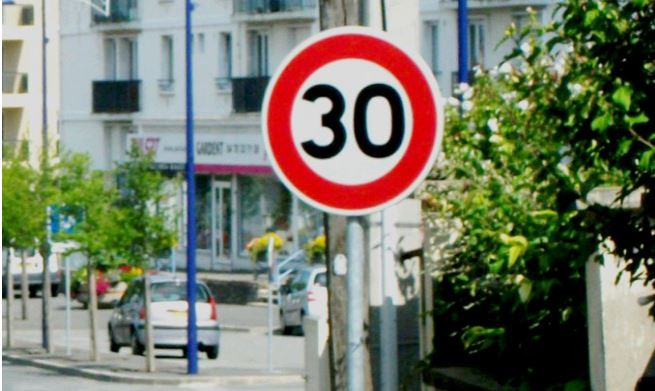Speed_limit_30km: (265, 29, 443, 213)
